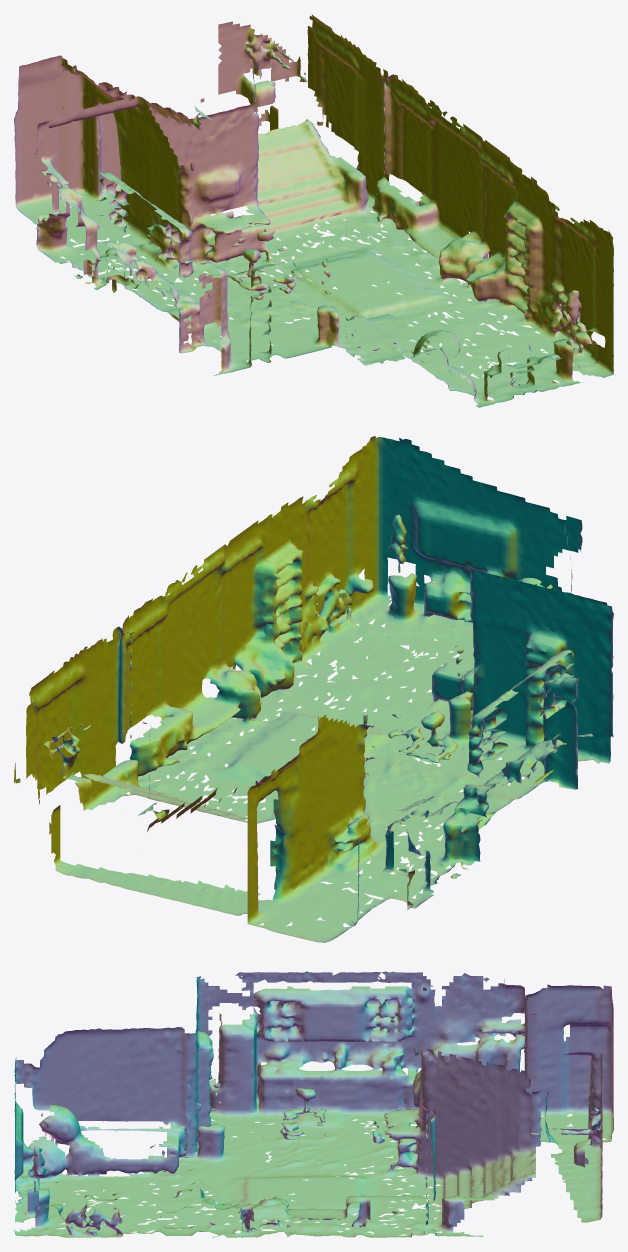
File: voxblox.glb
The picture shows the model from 3 angles, top to bottom: view 1: azimuth 30°, elevation 25°; view 2: azimuth 150°, elevation 25°; view 3: azimuth 270°, elevation 25°; orthographic projection. The views are drawn at different scales.
Bounding box in the file's own units: 7.03 × 3.12 × 12.75.
